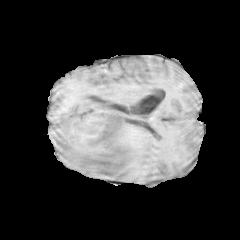glioma: (52, 95, 149, 173)
